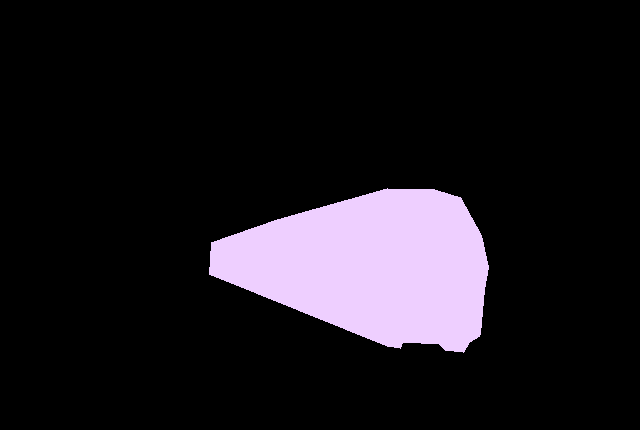Train: (209, 188, 488, 352)
